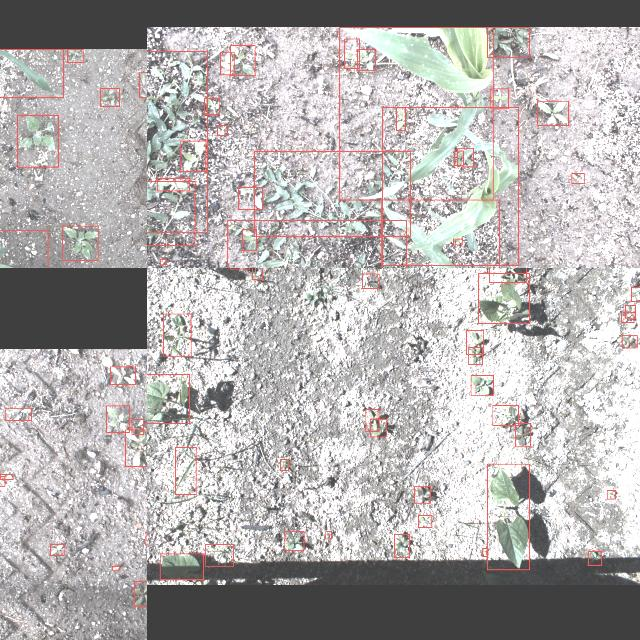crop: (340, 27, 492, 200), (382, 107, 518, 265), (381, 199, 499, 268), (487, 463, 529, 569), (0, 48, 63, 96), (478, 272, 530, 322), (147, 373, 189, 422), (163, 313, 191, 355), (160, 554, 204, 580), (493, 405, 519, 425), (489, 268, 526, 282)
weed: (254, 150, 410, 236), (147, 50, 207, 232), (227, 219, 406, 268), (147, 181, 194, 245), (18, 114, 58, 166), (487, 26, 529, 56), (62, 226, 98, 260), (176, 446, 196, 494), (125, 428, 147, 465), (180, 140, 206, 170), (230, 44, 256, 74), (538, 100, 568, 124), (106, 404, 130, 432), (204, 544, 233, 566), (238, 187, 262, 209), (344, 38, 360, 68), (110, 366, 136, 384), (356, 48, 376, 70), (471, 375, 493, 395), (466, 330, 484, 354), (156, 178, 190, 190), (284, 531, 304, 551), (100, 88, 120, 106), (491, 88, 509, 108), (394, 534, 410, 556), (516, 423, 530, 447), (134, 581, 147, 606), (220, 51, 234, 74), (6, 407, 32, 419), (369, 418, 386, 436), (457, 148, 473, 166), (242, 230, 256, 250), (366, 409, 378, 431), (204, 98, 220, 114), (362, 272, 378, 288), (414, 486, 430, 502), (468, 346, 482, 364), (396, 106, 406, 130), (67, 48, 83, 62), (139, 71, 147, 96), (588, 551, 602, 565), (132, 418, 144, 434), (418, 515, 432, 527), (622, 335, 636, 347), (622, 310, 634, 322), (454, 150, 464, 164), (50, 544, 64, 554), (625, 304, 635, 318), (631, 287, 640, 301), (572, 173, 584, 183), (217, 125, 227, 135), (252, 268, 262, 278), (606, 489, 616, 498), (280, 458, 288, 469), (0, 474, 14, 478), (453, 238, 462, 244), (0, 476, 5, 486), (482, 548, 488, 556), (326, 531, 332, 539), (112, 566, 120, 570), (160, 260, 166, 264)
